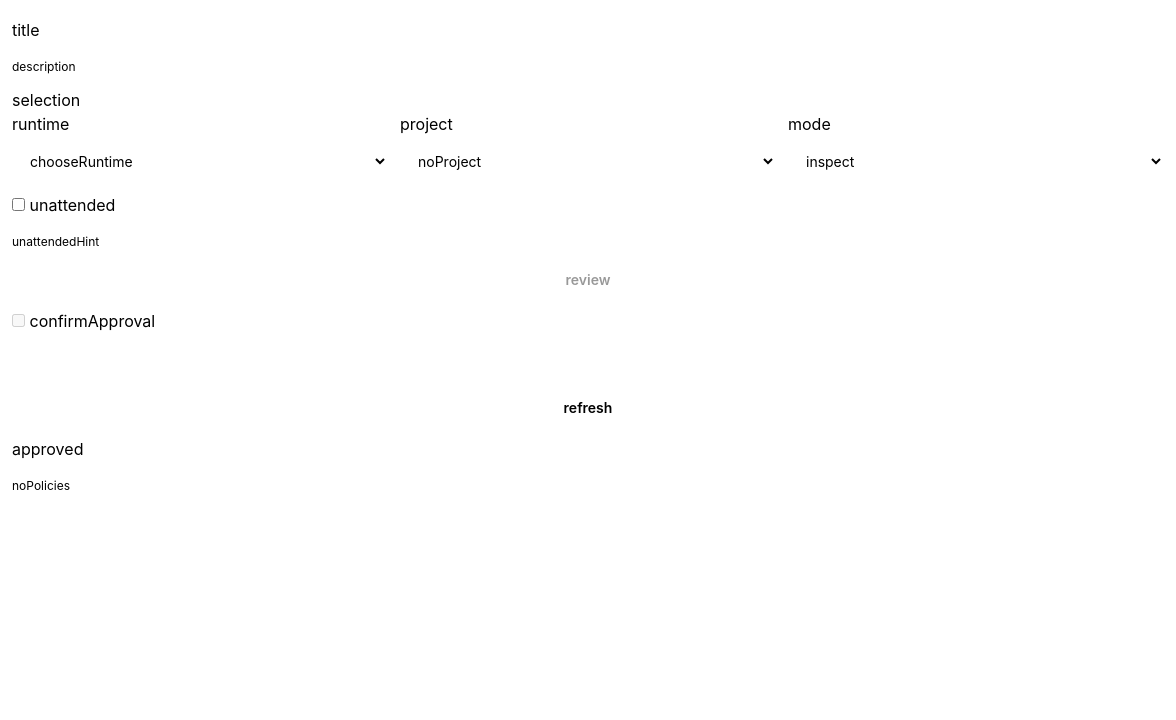
Test case: shows current restriction and never enables approval without verified execution capabilities
This screenshot has width=1176, height=720.
Select "Original runtime" in the dropdown labelled "runtime" at [200, 162], box x1=12 y1=142 x2=388 y2=181
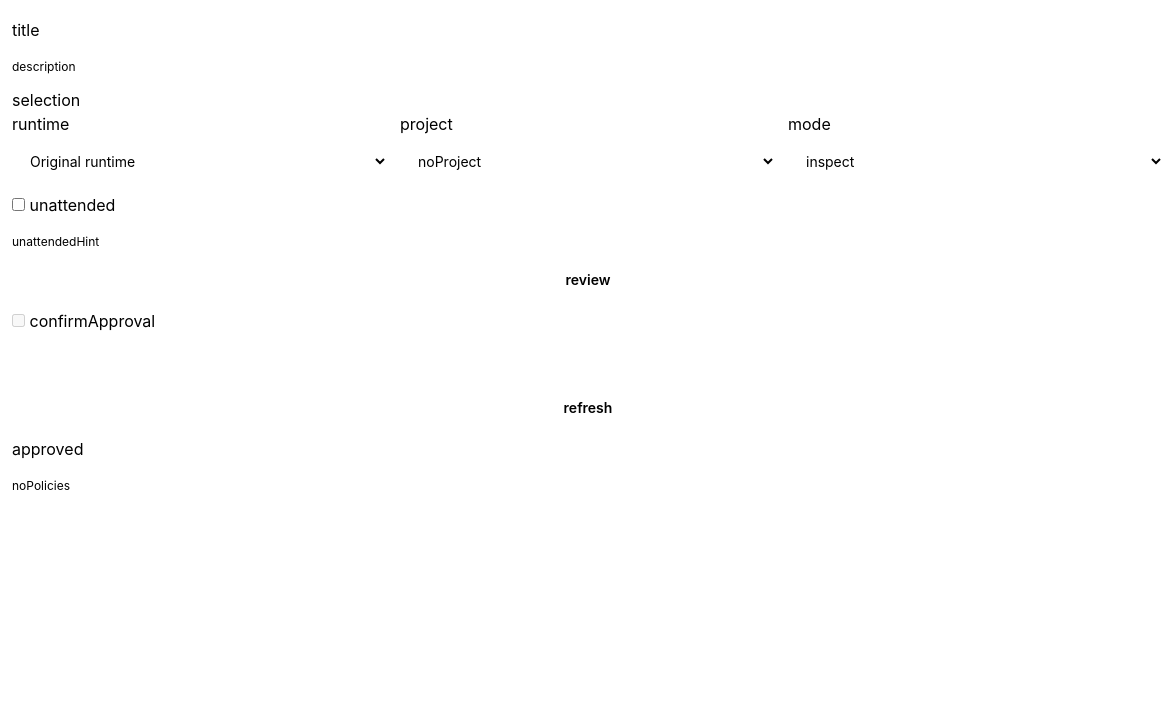
Click the button "review" at [588, 280], box x1=12 y1=263 x2=1164 y2=297
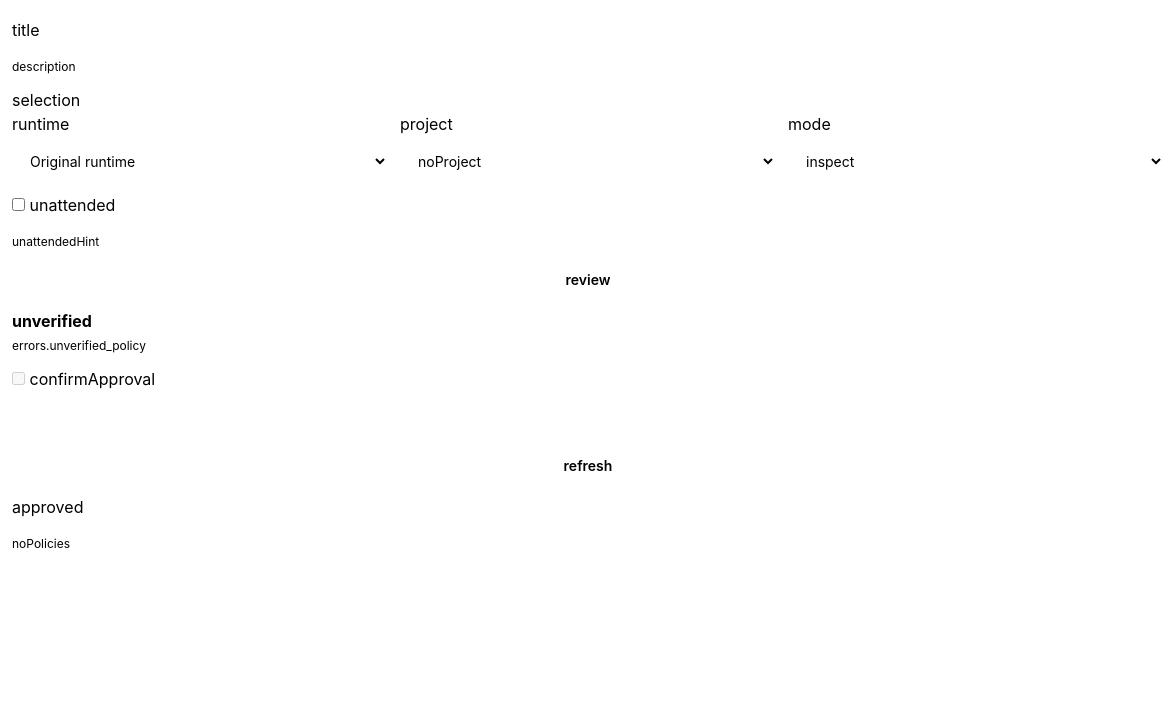
Check: the checkbox labelled "confirmApproval" is disabled, box x1=12 y1=372 x2=25 y2=385
Check: the text "unverified" is shown, box x1=12 y1=311 x2=92 y2=331
Check: the text "errors.unverified_policy" is shown, box x1=12 y1=338 x2=146 y2=353
